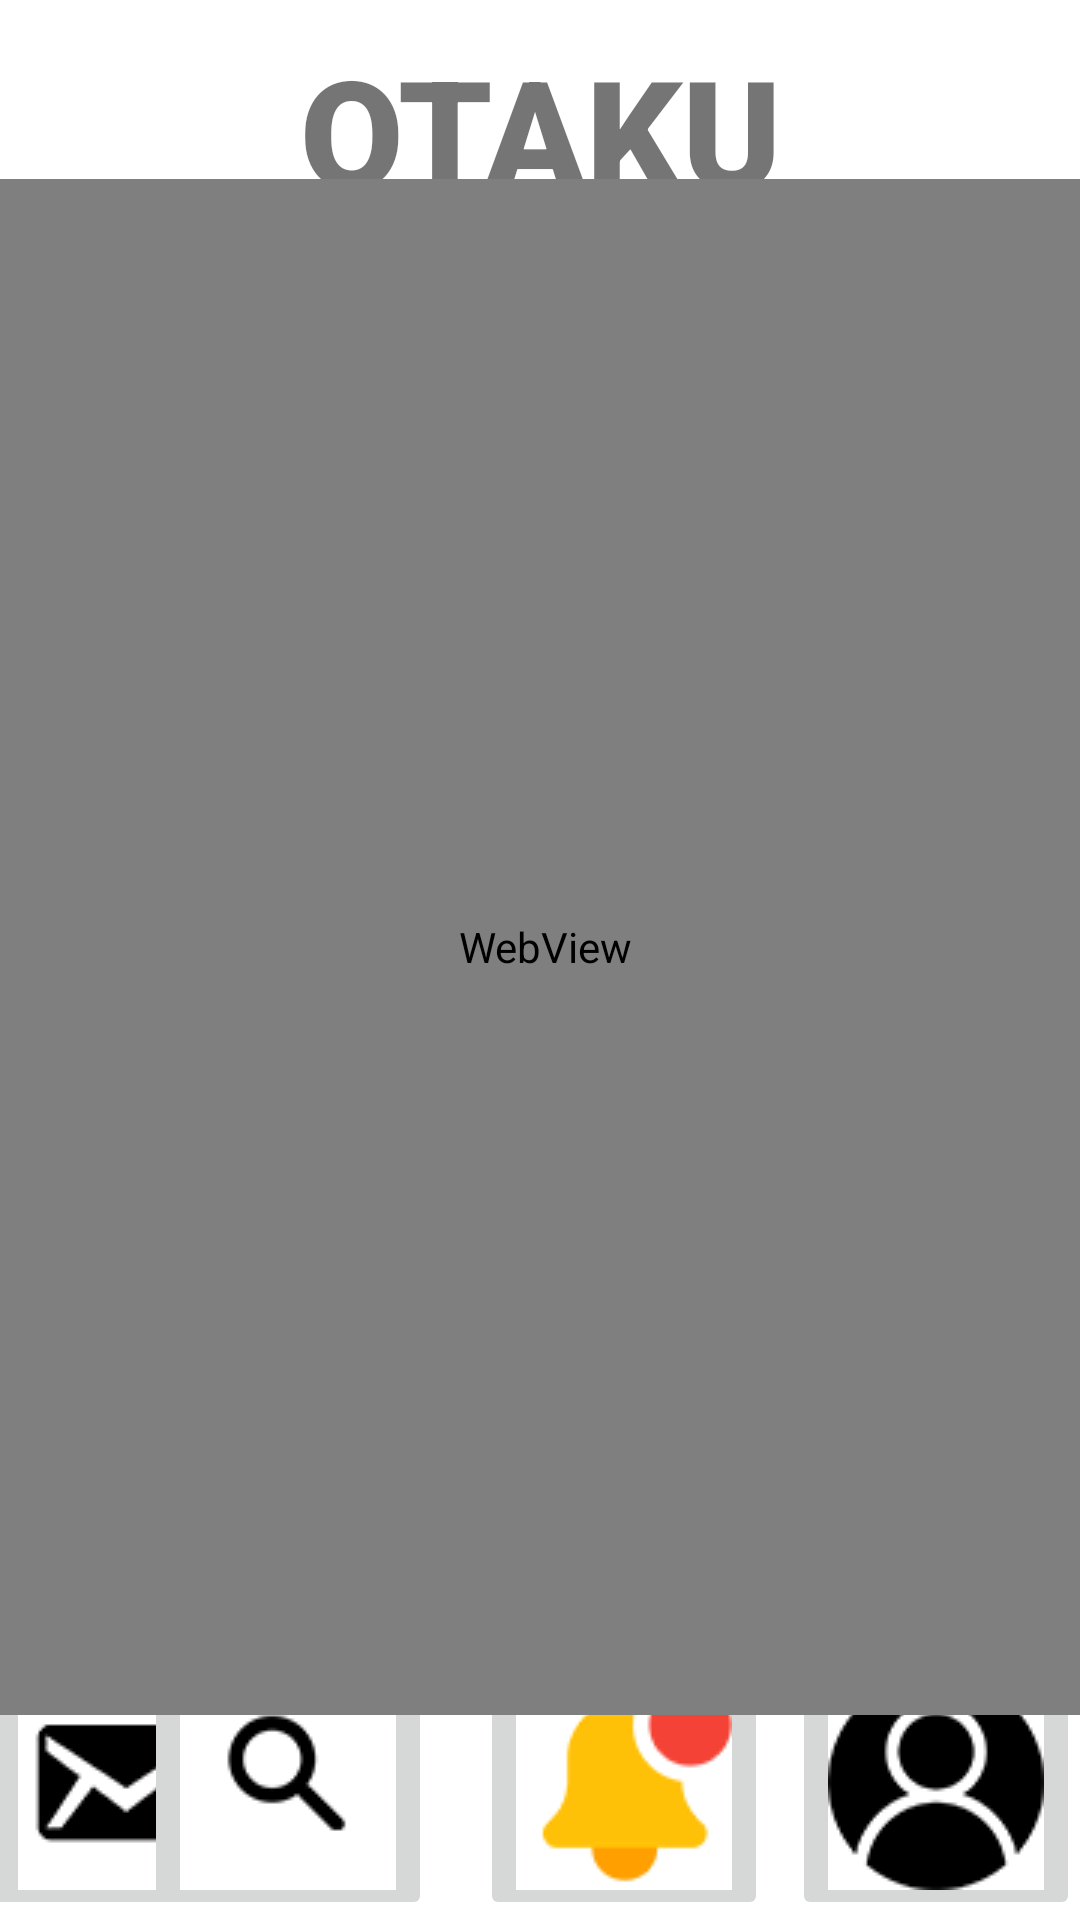

Icon click points for this 1080px×1920px phone screenshot, format (x=x, y=y):
notification: (x=624, y=1782)
profile: (x=936, y=1817)
search: (x=288, y=1782)
